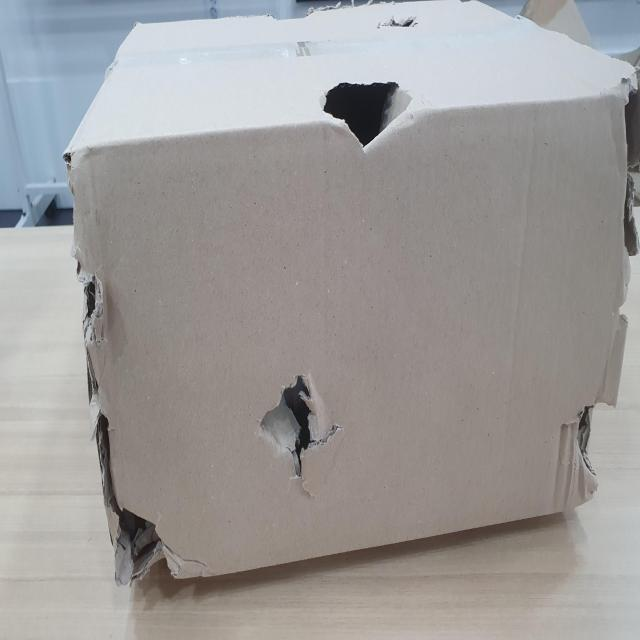damaged: (81, 263, 177, 588), (258, 361, 342, 471), (317, 81, 420, 162), (606, 78, 640, 256)
